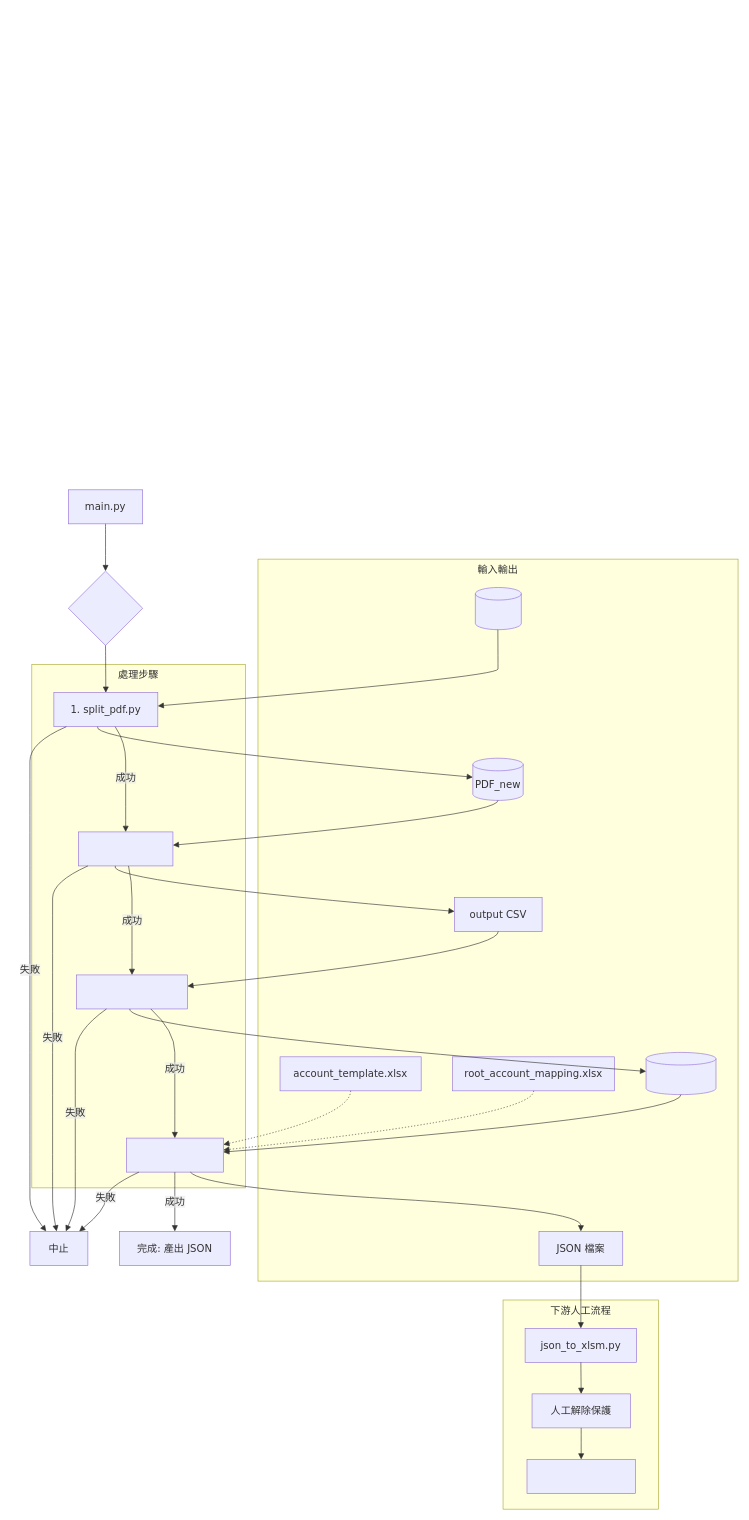
This 749x1520 diagram has some shape labels left out. The centre of each missing label's shape, as x and y in pixels:
2. gemini.py: [125,848]
3. csv_to_sql.py: [131,991]
4. mapper.py: [174,1154]
fin_report.db: [680,1073]
PDF_old: [498,608]
執行流程: [105,607]
更新 Excel 範本: [580,1476]
